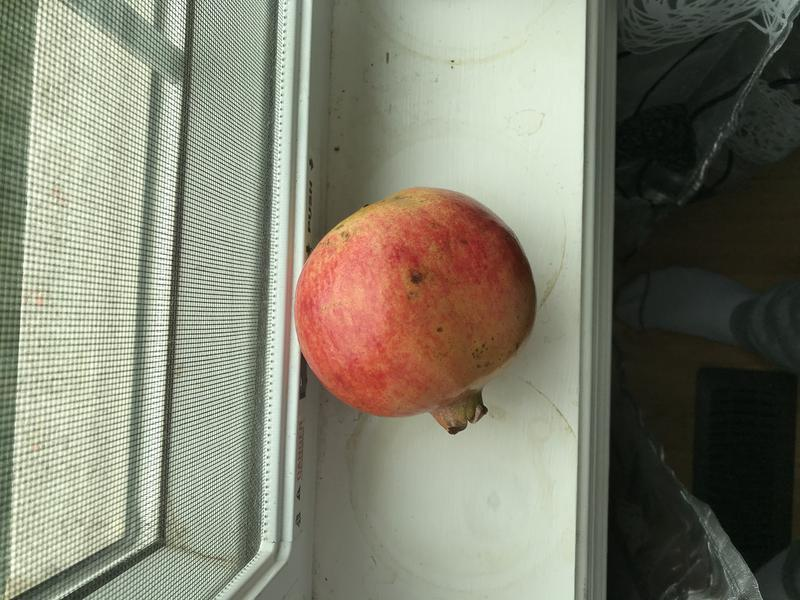pomegranate: (283, 181, 549, 455)
